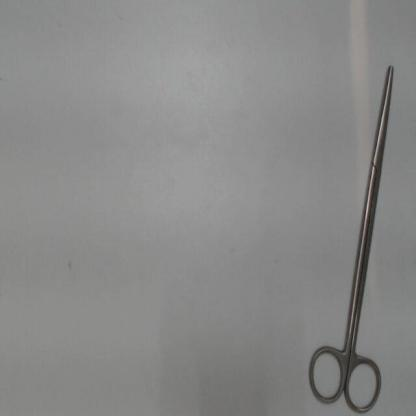9 Metzenbaum Scissors: (302, 60, 396, 415)
